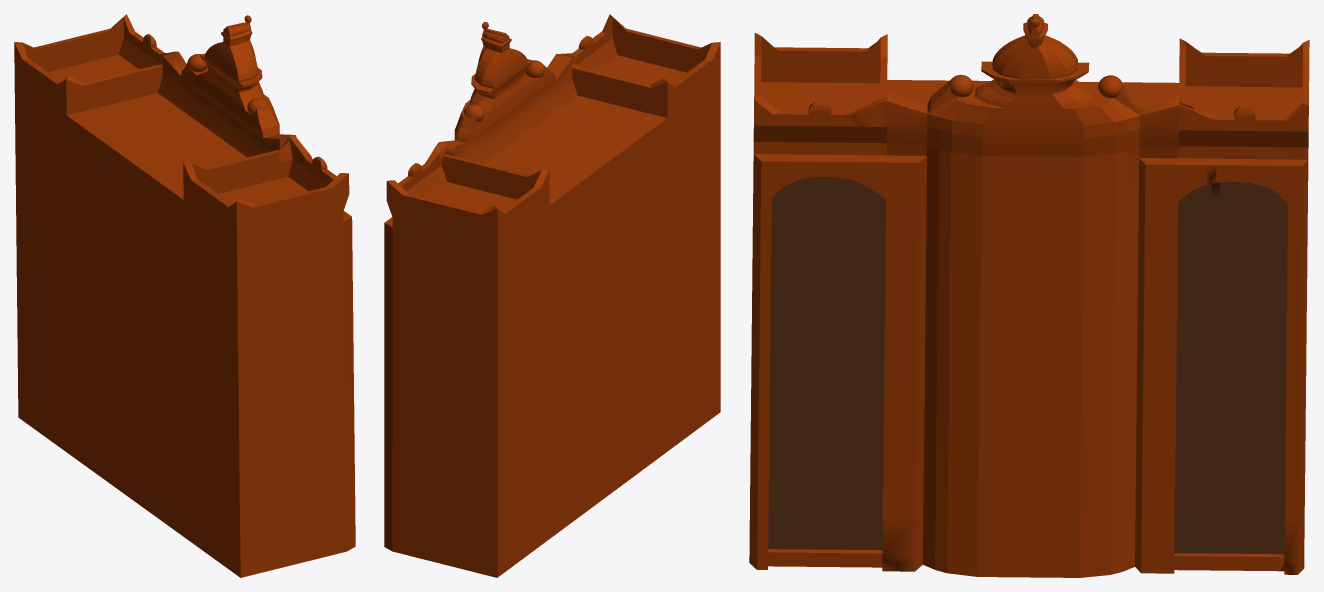
Rendered from Wardrobe(v1.Textured).fbx.
3 renders of one model, left to right at view 1: azimuth 30°, elevation 25°; view 2: azimuth 150°, elevation 25°; view 3: azimuth 270°, elevation 25°, orthographic. The views are drawn at different scales.
Visible parts, largest first — view 1: Wardrobe; view 2: Wardrobe; view 3: Wardrobe.
Part boxes in pixels (<box>): Wardrobe: <box>14,14,355,577</box>; Wardrobe: <box>384,14,720,577</box>; Wardrobe: <box>749,14,1309,577</box>.
Size of the model in its own units: 1391 by 4656 by 4220.
